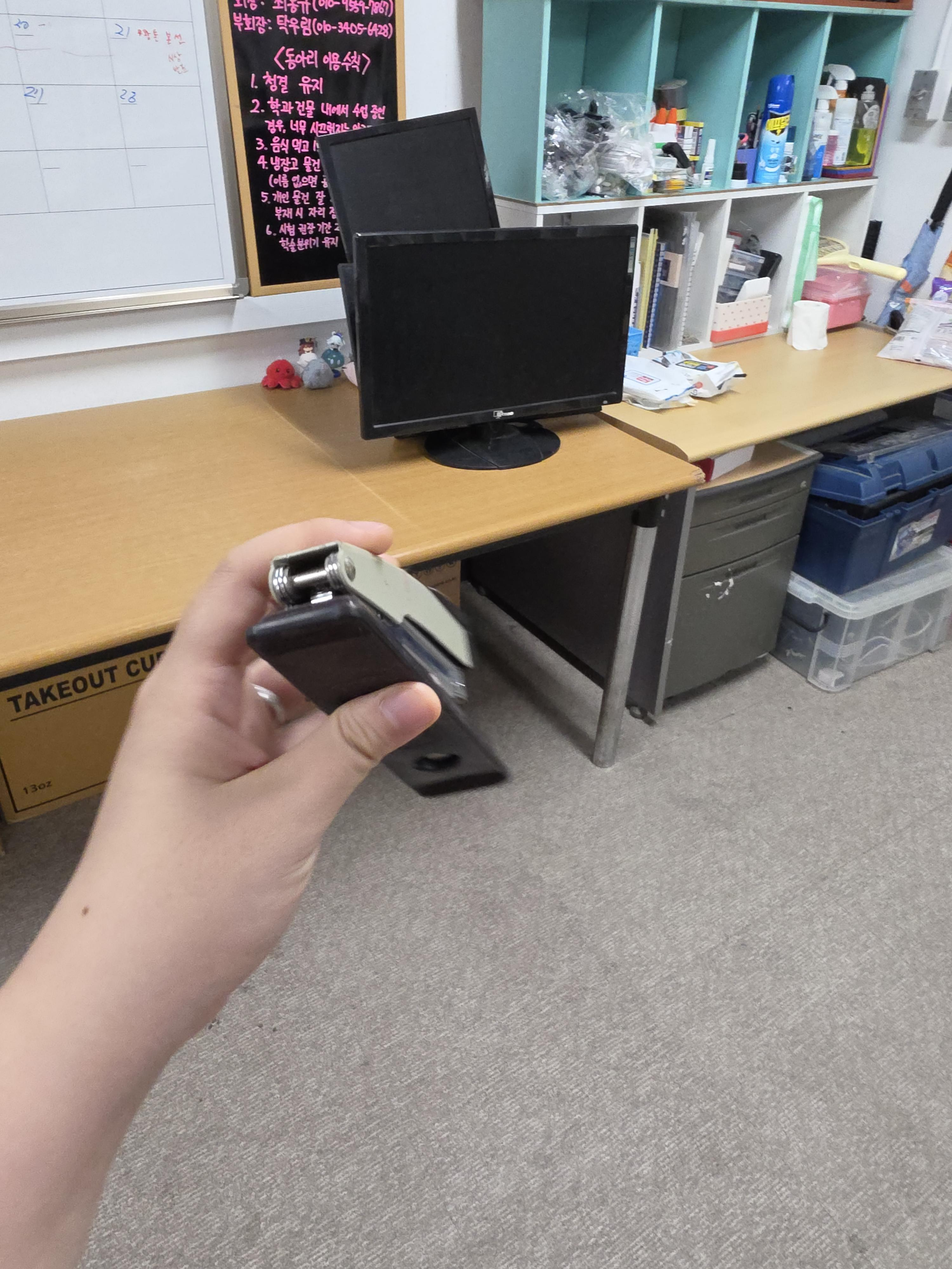stapler: (246, 540, 508, 797)
tissue: (710, 275, 772, 345), (788, 300, 829, 351)
